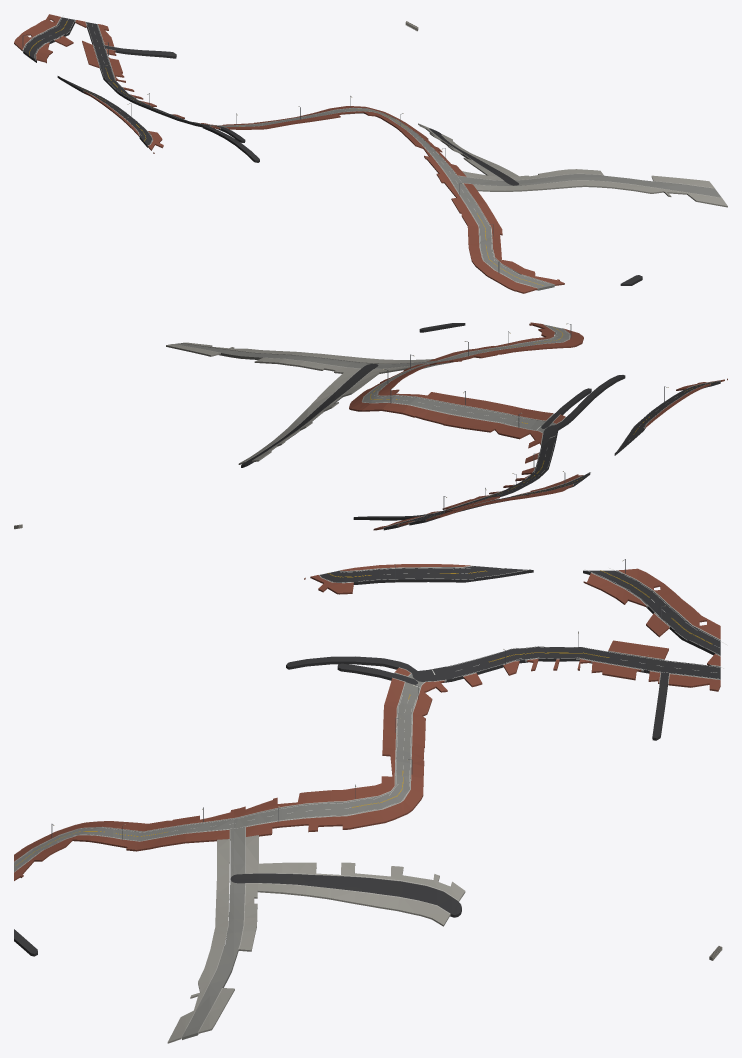
3 views of the same model, one above another, from view 1: azimuth 30°, elevation 25°; view 2: azimuth 150°, elevation 25°; view 3: azimuth 270°, elevation 25° (orthographic). The views are drawn at different scales.
Bounding box in the file's own units: 295 × 84.89 × 295.
